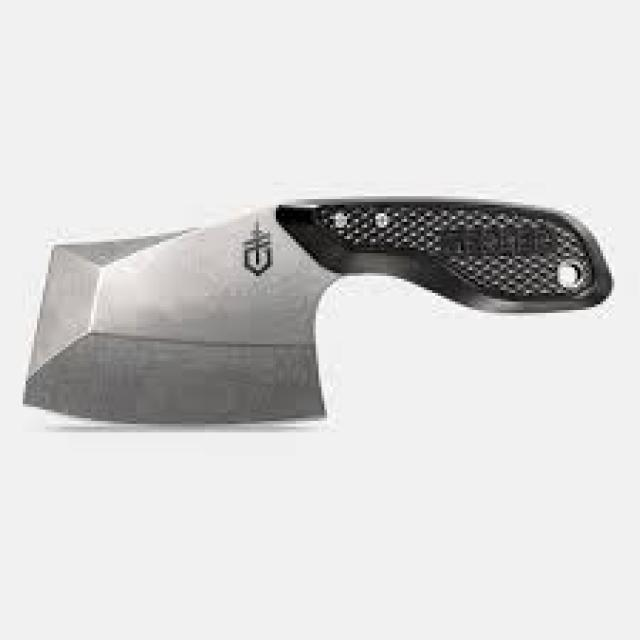knives: (17, 185, 617, 435)
